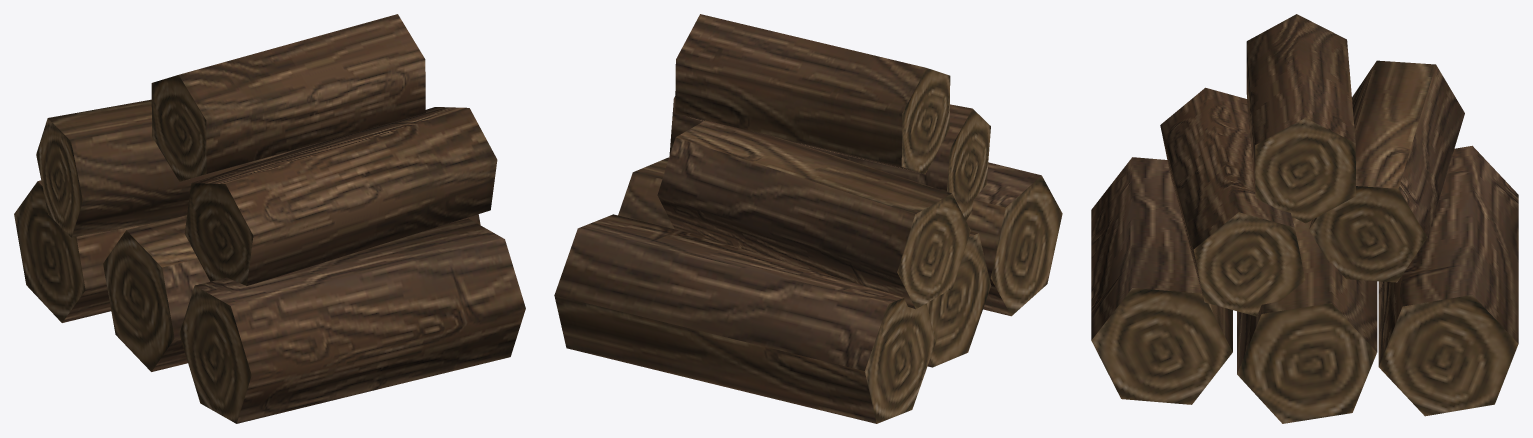
Rendered from Lumber.fbx.
3 views of the same model, side by side, from view 1: azimuth 30°, elevation 25°; view 2: azimuth 150°, elevation 25°; view 3: azimuth 270°, elevation 25° (orthographic). The views are drawn at different scales.
Parts seen in each view (by area): view 1: polySurface608; view 2: polySurface608; view 3: polySurface608.
Boxes of the visible parts, box(x1,y1,x2,y2) form: polySurface608: box(14, 14, 525, 423); polySurface608: box(554, 14, 1062, 423); polySurface608: box(1091, 14, 1518, 423).
Size of the model in its own units: 0.9122 by 0.7184 by 0.9917.
Materials: 1 (1 with a texture image).
